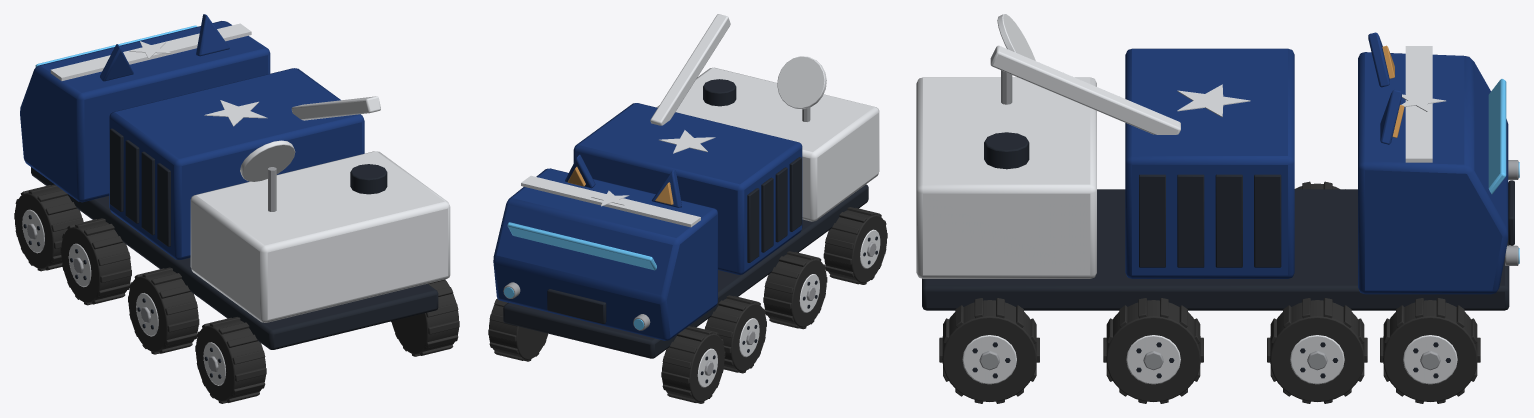
Rendered from shibas_baumobil.glb.
The picture shows the model from 3 angles, left to right: view 1: azimuth 30°, elevation 25°; view 2: azimuth 150°, elevation 25°; view 3: azimuth 270°, elevation 25°; orthographic projection. The views are drawn at different scales.
Parts seen in each view (by area): view 1: module_b, module_a, cab, frame, wheel_-1_2, wheel_-1_1, wheel_-1_3, wheel_-1_0, wheel_1_1, cab_roof_stripe, dish, crane_arm (+14 smaller); view 2: cab, module_a, module_b, frame, wheel_-1_1, wheel_-1_2, wheel_-1_0, crane_arm, cab_roof_stripe, dish, wheel_-1_3, cab_window (+14 smaller); view 3: module_b, cab, module_a, frame, wheel_1_2, wheel_1_0, wheel_1_1, wheel_1_3, crane_arm, cab_roof_stripe, panel_1, panel_2 (+12 smaller).
Part boxes in pixels (left/top/right/bottom): module_b: left=190, top=151, right=450, bottom=322; module_a: left=109, top=68, right=364, bottom=259; cab: left=20, top=21, right=270, bottom=202; frame: left=31, top=167, right=438, bottom=349; wheel_-1_2: left=128, top=271, right=198, bottom=352; wheel_-1_1: left=196, top=320, right=265, bottom=401; wheel_-1_3: left=61, top=221, right=131, bottom=303; wheel_-1_0: left=14, top=188, right=81, bottom=269; wheel_1_1: left=391, top=280, right=458, bottom=354; cab_roof_stripe: left=50, top=23, right=251, bottom=80; dish: left=240, top=140, right=295, bottom=181; crane_arm: left=291, top=96, right=380, bottom=120; cab: left=493, top=168, right=717, bottom=340; module_a: left=573, top=103, right=802, bottom=274; module_b: left=656, top=67, right=879, bottom=221; frame: left=503, top=184, right=868, bottom=358; wheel_-1_1: left=824, top=210, right=887, bottom=283; wheel_-1_2: left=764, top=254, right=826, bottom=327; wheel_-1_0: left=662, top=329, right=724, bottom=401; crane_arm: left=650, top=14, right=730, bottom=125; cab_roof_stripe: left=521, top=175, right=700, bottom=227; dish: left=777, top=56, right=826, bottom=109; wheel_-1_3: left=706, top=298, right=766, bottom=371; cab_window: left=507, top=222, right=656, bottom=270; module_b: left=916, top=77, right=1096, bottom=278; cab: left=1358, top=52, right=1508, bottom=294; module_a: left=1125, top=48, right=1294, bottom=278; frame: left=922, top=189, right=1509, bottom=310; wheel_1_2: left=1106, top=300, right=1200, bottom=401; wheel_1_0: left=1383, top=300, right=1477, bottom=401; wheel_1_1: left=942, top=300, right=1036, bottom=401; wheel_1_3: left=1270, top=300, right=1364, bottom=401; crane_arm: left=990, top=45, right=1180, bottom=134; cab_roof_stripe: left=1405, top=46, right=1432, bottom=162; panel_1: left=1177, top=174, right=1204, bottom=267; panel_2: left=1215, top=174, right=1242, bottom=267.
Size of the model in its own units: 1.44 by 1.55 by 2.67.
